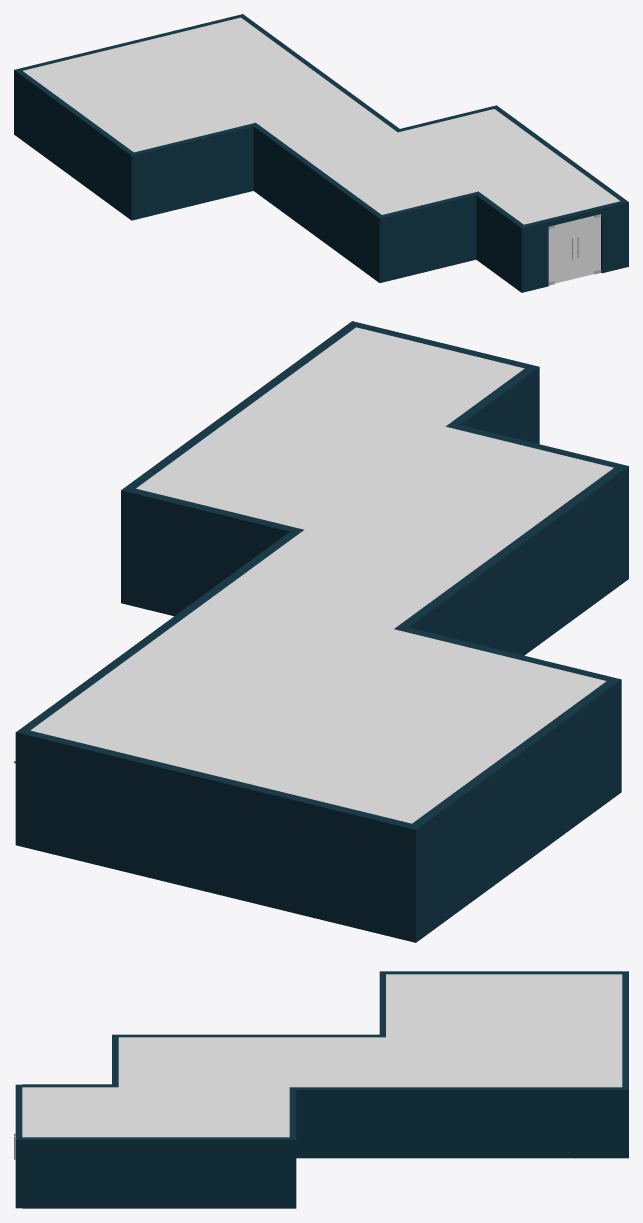
The model's file is Exhibitionhall_N.fbx.
The picture shows the model from 3 angles, top to bottom: view 1: azimuth 30°, elevation 25°; view 2: azimuth 150°, elevation 25°; view 3: azimuth 270°, elevation 25°; orthographic projection. The views are drawn at different scales.
Parts seen in each view (by area): view 1: Cube.017, Cube.011, Cube.025, Cube.022, Cube.020, Cube.018, Cube.016, Cube.026, Cube.053, Cube.027, Cube.054, Cube.055 (+3 smaller); view 2: Cube.012, Cube.017, Cube.011, Cube.025, Cube.022, Cube.018, Cube.020, Cube.024, Cube.023, Cube.027, Cube.021, Cube.026 (+2 smaller); view 3: Cube.023, Cube.021, Cube.025, Cube.022, Cube.011, Cube.017, Cube.020, Cube.018, Cube.053, Cube.024, Cube.012, Cube.016 (+2 smaller).
Part boxes in pixels (bbox=[...]): Cube.017: bbox=[78, 58, 351, 152]; Cube.011: bbox=[23, 17, 295, 111]; Cube.025: bbox=[398, 109, 620, 224]; Cube.022: bbox=[256, 99, 477, 214]; Cube.020: bbox=[253, 124, 381, 280]; Cube.018: bbox=[14, 68, 136, 220]; Cube.016: bbox=[134, 122, 256, 219]; Cube.026: bbox=[376, 191, 481, 282]; Cube.053: bbox=[518, 200, 628, 292]; Cube.027: bbox=[476, 194, 523, 290]; Cube.054: bbox=[573, 215, 600, 278]; Cube.055: bbox=[548, 220, 573, 283]; Cube.012: bbox=[25, 730, 411, 940]; Cube.017: bbox=[128, 588, 606, 752]; Cube.011: bbox=[30, 659, 508, 823]; Cube.025: bbox=[136, 327, 524, 529]; Cube.022: bbox=[225, 426, 613, 628]; Cube.018: bbox=[406, 677, 621, 942]; Cube.020: bbox=[394, 468, 623, 655]; Cube.024: bbox=[121, 486, 294, 616]; Cube.023: bbox=[15, 527, 303, 847]; Cube.027: bbox=[451, 368, 534, 442]; Cube.021: bbox=[127, 325, 355, 488]; Cube.026: bbox=[446, 422, 628, 582]; Cube.023: bbox=[289, 1087, 628, 1158]; Cube.021: bbox=[22, 1137, 289, 1208]; Cube.025: bbox=[22, 1087, 289, 1137]; Cube.022: bbox=[118, 1037, 385, 1087]; Cube.011: bbox=[504, 974, 622, 1087]; Cube.017: bbox=[386, 974, 504, 1087]; Cube.020: bbox=[118, 1034, 385, 1037]; Cube.018: bbox=[379, 971, 628, 974]; Cube.053: bbox=[15, 1084, 22, 1208]; Cube.024: bbox=[289, 1090, 296, 1208]; Cube.012: bbox=[622, 974, 628, 1086]; Cube.016: bbox=[379, 974, 385, 1037].
Bounding box in the file's own units: 72.38 × 13.73 × 112.
